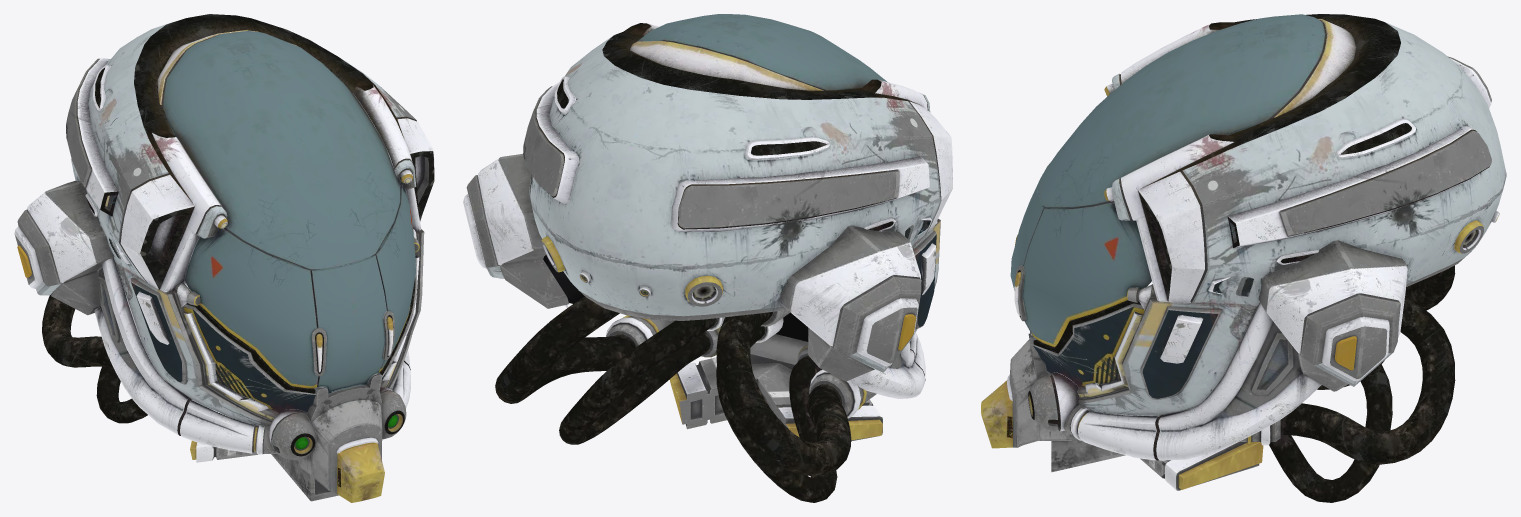
File: damaged-helmet-opt.glb
3 renders of one model, left to right at view 1: azimuth 30°, elevation 25°; view 2: azimuth 150°, elevation 25°; view 3: azimuth 270°, elevation 25°, orthographic. The views are drawn at different scales.
Visible parts, largest first — view 1: node_damagedHelmet_-6514; view 2: node_damagedHelmet_-6514; view 3: node_damagedHelmet_-6514.
Part boxes in pixels (x1,y1,x2,y2): node_damagedHelmet_-6514: (14, 14, 434, 502); node_damagedHelmet_-6514: (463, 14, 952, 502); node_damagedHelmet_-6514: (981, 14, 1506, 502).
Size of the model in its own units: 1.89 by 1.8 by 2.
Materials: 1 (1 with a texture image).
